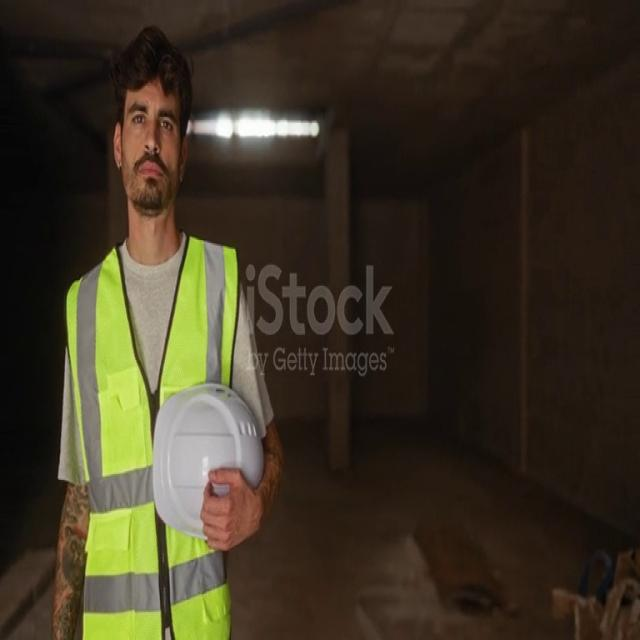sem_capacete: (103, 22, 209, 264)
